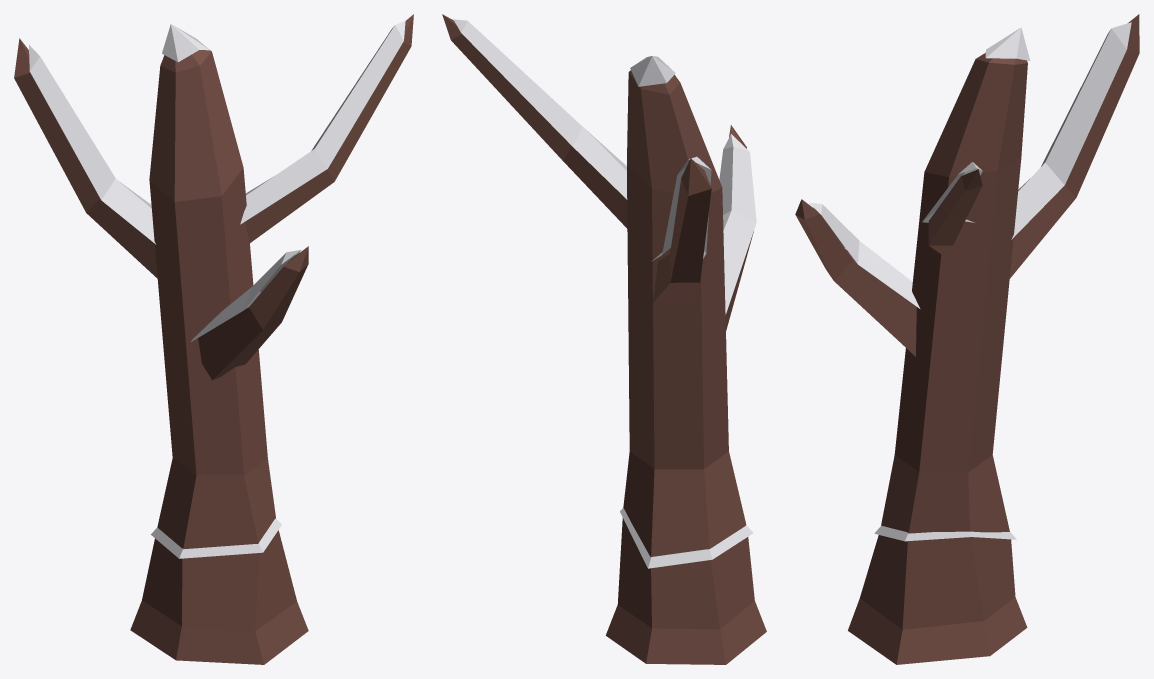
The model's file is Tree01.fbx.
3 renders of one model, left to right at view 1: azimuth 30°, elevation 25°; view 2: azimuth 150°, elevation 25°; view 3: azimuth 270°, elevation 25°, orthographic. The views are drawn at different scales.
Parts seen in each view (by area): view 1: Tree01_Stem, Tree01_Stump, Tree01_Stump_Snow; view 2: Tree01_Stem, Tree01_Stump, Tree01_Stump_Snow; view 3: Tree01_Stem, Tree01_Stump, Tree01_Stump_Snow.
Boxes of the visible parts, left/top/right/bottom form: Tree01_Stem: left=14, top=14, right=413, bottom=549; Tree01_Stump: left=130, top=530, right=308, bottom=664; Tree01_Stump_Snow: left=151, top=518, right=281, bottom=558; Tree01_Stem: left=442, top=14, right=756, bottom=556; Tree01_Stump: left=606, top=518, right=766, bottom=664; Tree01_Stump_Snow: left=620, top=507, right=753, bottom=568; Tree01_Stem: left=795, top=14, right=1139, bottom=533; Tree01_Stump: left=848, top=535, right=1027, bottom=664; Tree01_Stump_Snow: left=874, top=525, right=1016, bottom=541.
Size of the model in its own units: 2.31 by 3.89 by 2.03.
1 material, 1 textured.
